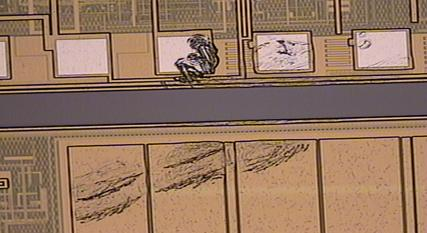SCRATCH: (69, 31, 413, 225)
